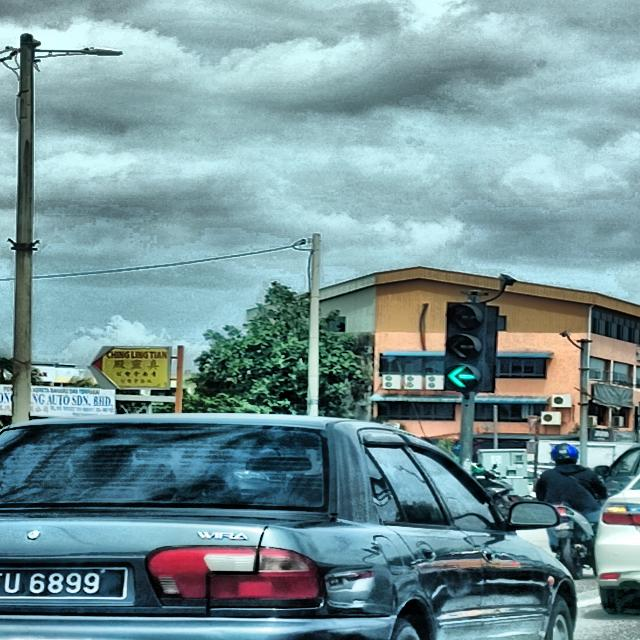green: (444, 302, 486, 392)
